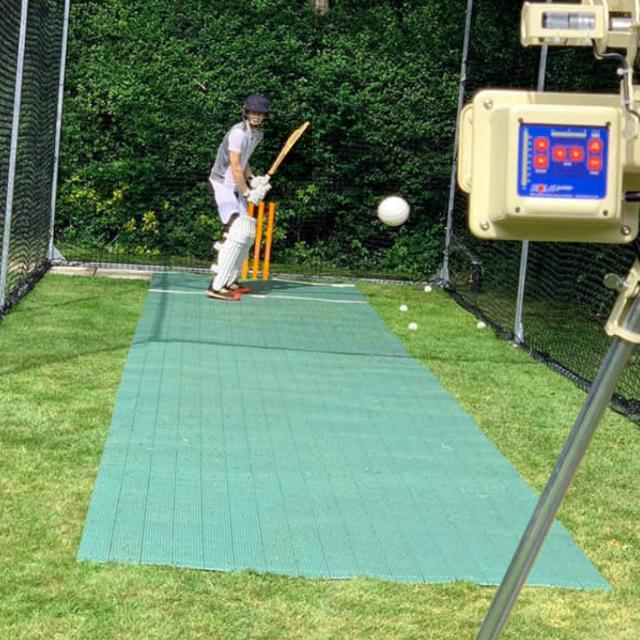bat: (266, 123, 308, 178)
